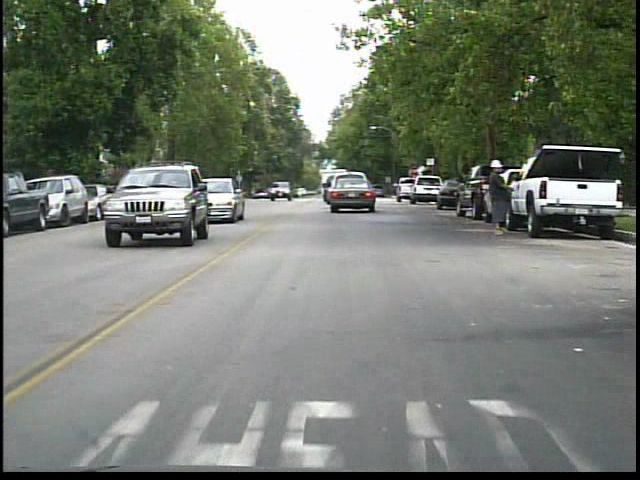person: (484, 156, 516, 239)
